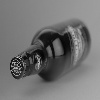beer: (10, 21, 100, 83)
